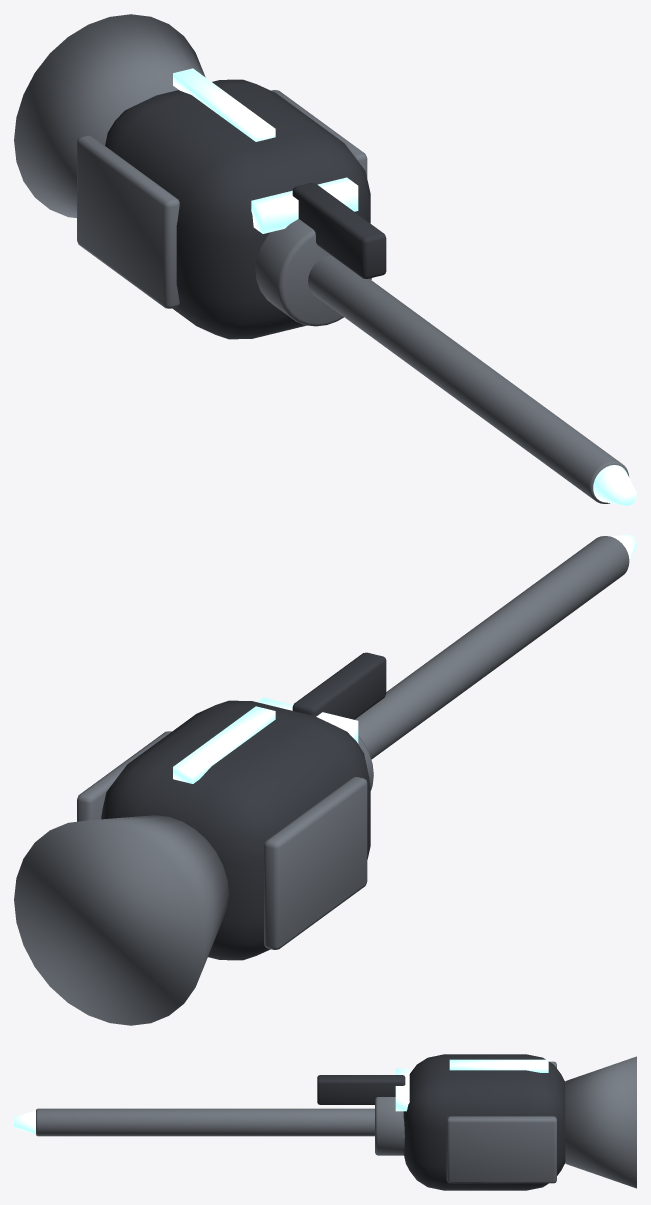
File: weapon_drone_needle.glb
3 views of the same model, one above another, from view 1: azimuth 30°, elevation 25°; view 2: azimuth 150°, elevation 25°; view 3: azimuth 270°, elevation 25° (orthographic). The views are drawn at different scales.
Visible parts, largest first — view 1: weapon_drone_needle; view 2: weapon_drone_needle; view 3: weapon_drone_needle.
Part boxes in pixels (x1,y1,x2,y2): weapon_drone_needle: [14, 14, 636, 505]; weapon_drone_needle: [14, 534, 636, 1025]; weapon_drone_needle: [14, 1054, 636, 1190].
Size of the model in its own units: 0.51 by 0.48 by 2.26.
